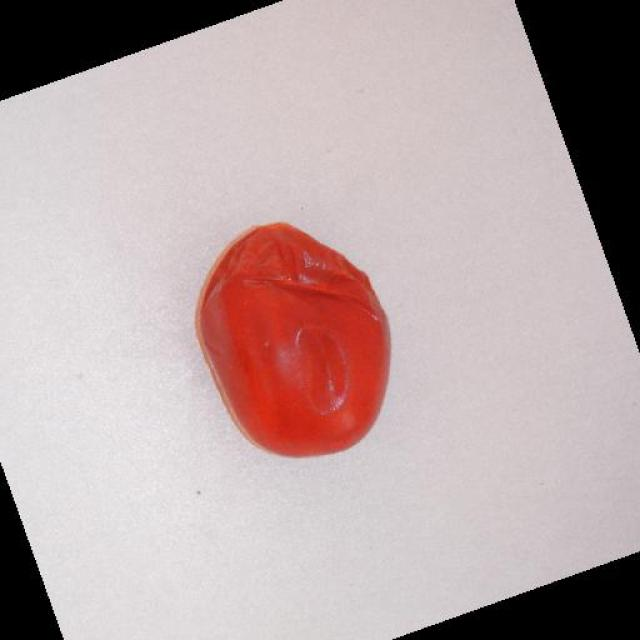Stale_tomato: (194, 236, 405, 464)
